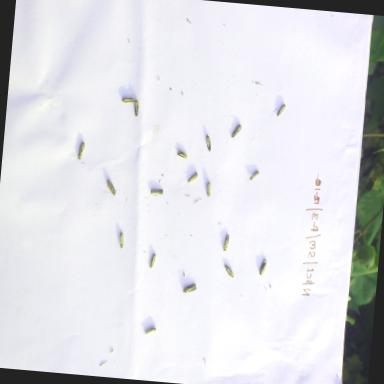pbw: (180, 278, 200, 300), (200, 174, 216, 201), (112, 228, 128, 252), (102, 177, 119, 199), (219, 260, 235, 282), (72, 140, 88, 162), (186, 166, 202, 188), (129, 98, 143, 122), (118, 90, 136, 108), (142, 322, 160, 340), (245, 166, 261, 186), (230, 119, 244, 141), (221, 232, 232, 255), (258, 256, 270, 277), (204, 132, 214, 154), (275, 102, 287, 120), (149, 186, 165, 198), (148, 250, 157, 270), (176, 148, 188, 162)
